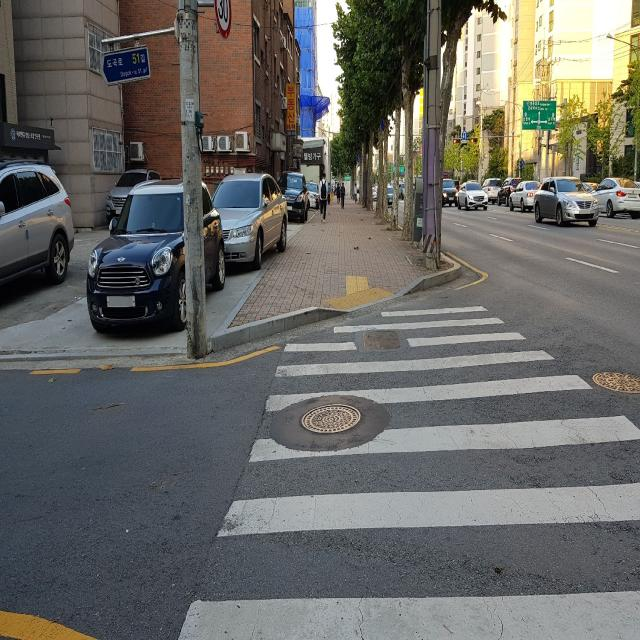횡단보도: (178, 304, 640, 640)
